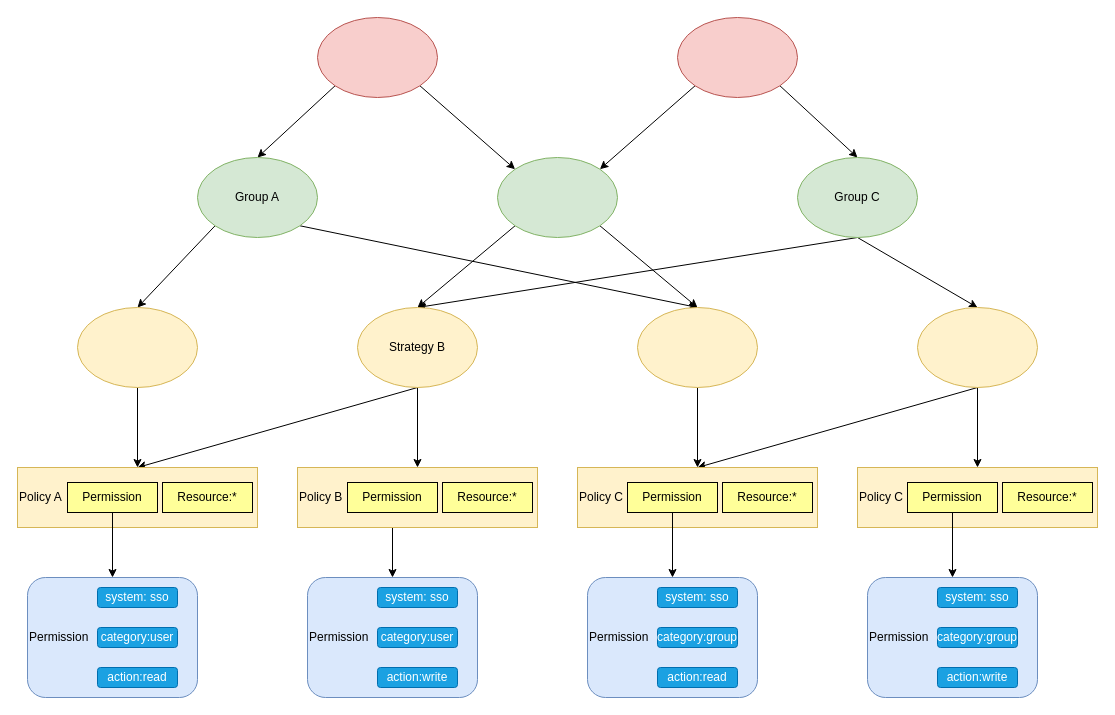
This 1115x715 diagram has some shape labels left out. Each missing label, with the centre of its shape:
Group B: [557,197]
Strategy A: [137,347]
Strategy C: [697,347]
Strategy D: [977,347]
User A: [377,57]
User B: [737,57]
